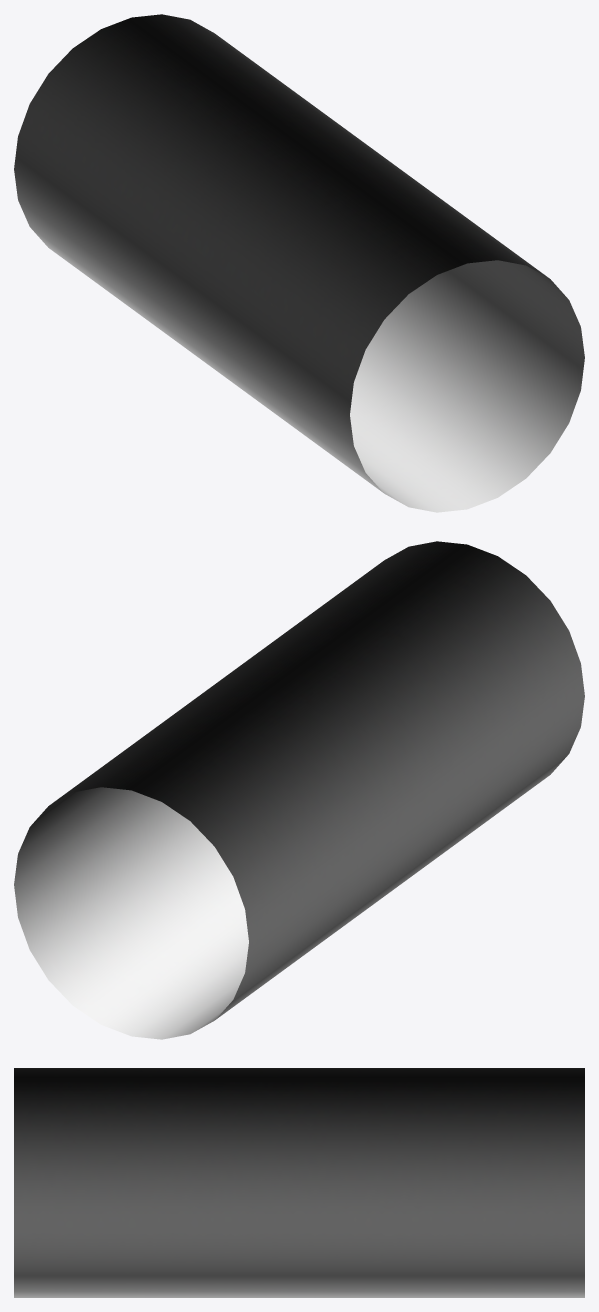
3 views of the same model, one above another, from view 1: azimuth 30°, elevation 25°; view 2: azimuth 150°, elevation 25°; view 3: azimuth 270°, elevation 25° (orthographic). The views are drawn at different scales.
Parts seen in each view (by area): view 1: Cylinder_01; view 2: Cylinder_01; view 3: Cylinder_01.
Boxes of the visible parts, box(x1,y1,x2,y2) form: Cylinder_01: box(14, 14, 584, 512); Cylinder_01: box(14, 541, 584, 1039); Cylinder_01: box(14, 1068, 584, 1297).
Bounding box in the file's own units: 2.12 × 2.12 × 5.25.
Materials: 1 (1 with a texture image).
